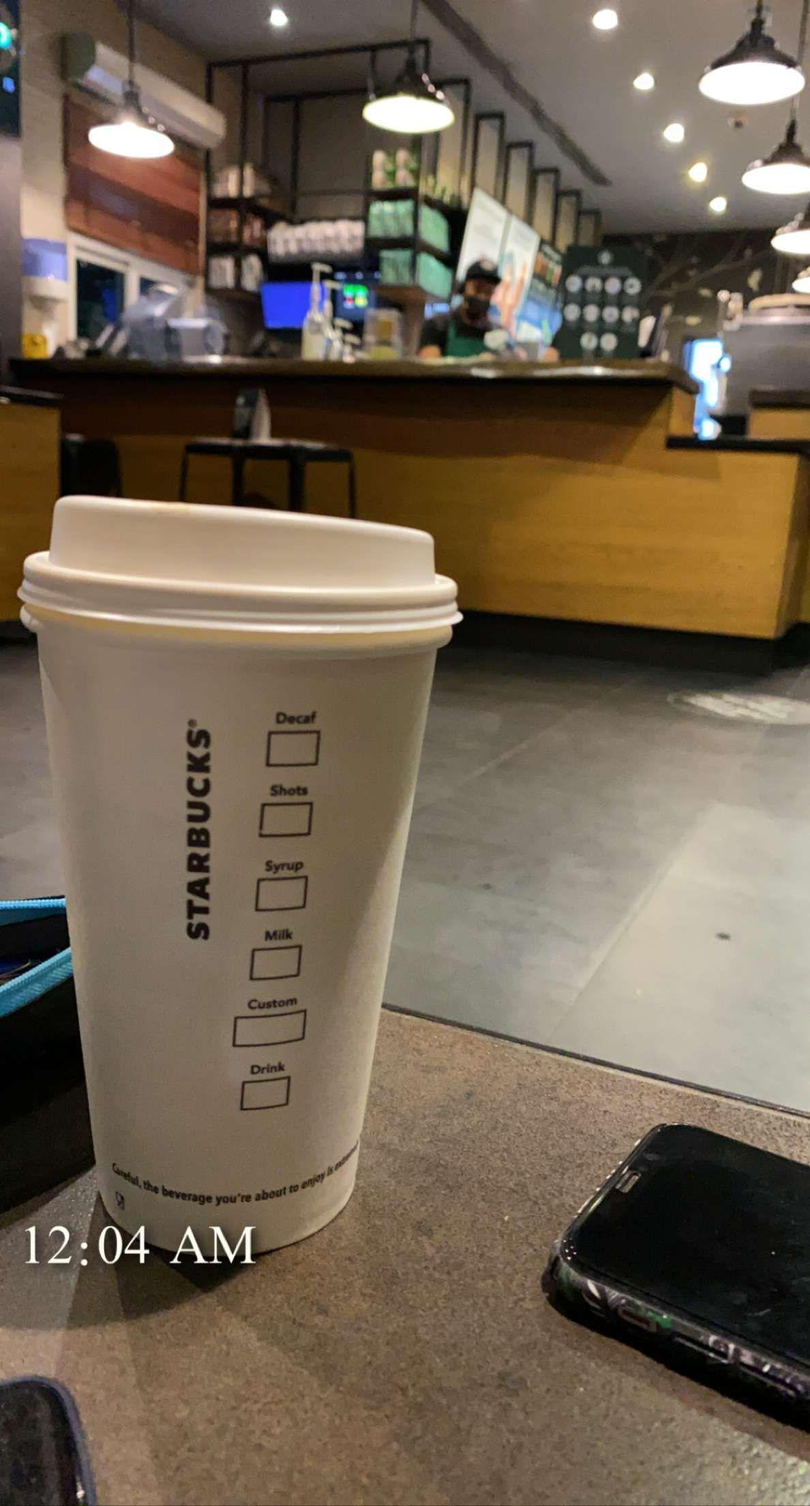cup-disposable: (13, 493, 466, 1275)
